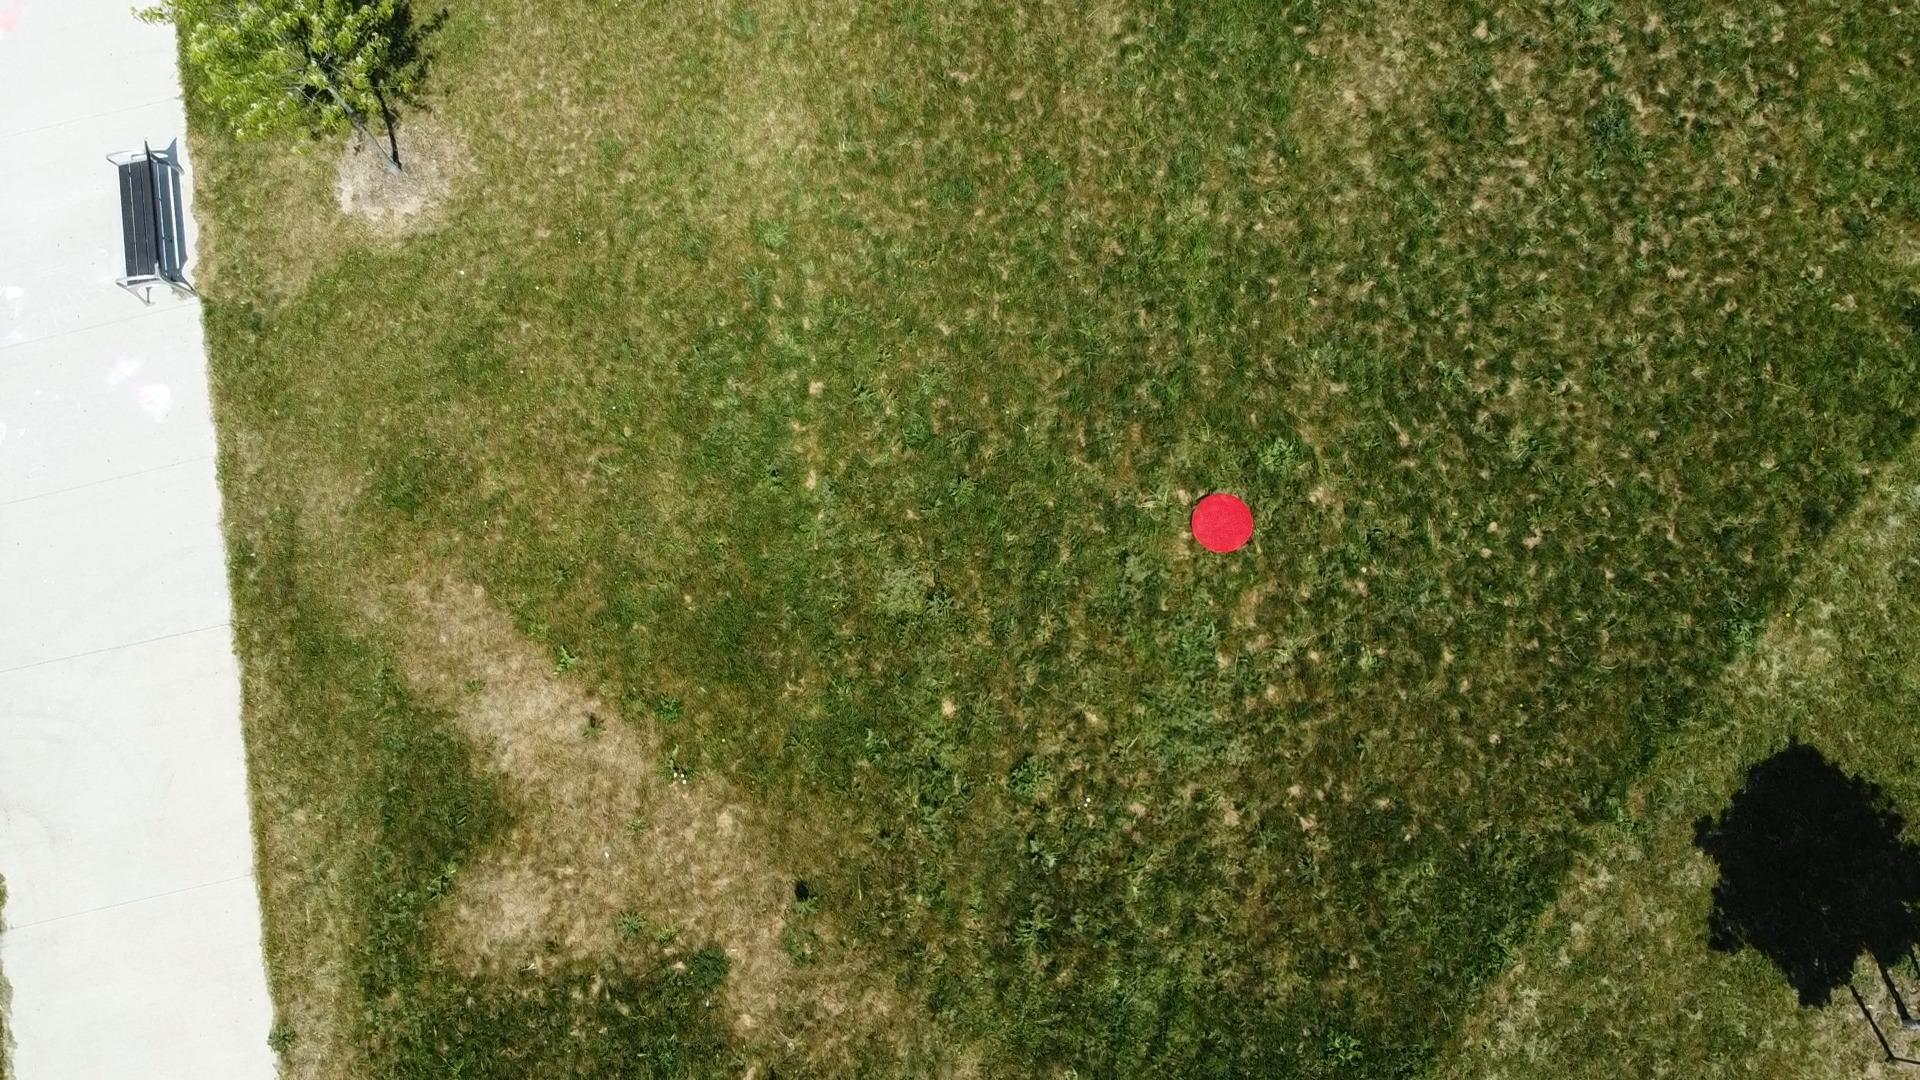Red: (1188, 491, 1255, 554)
